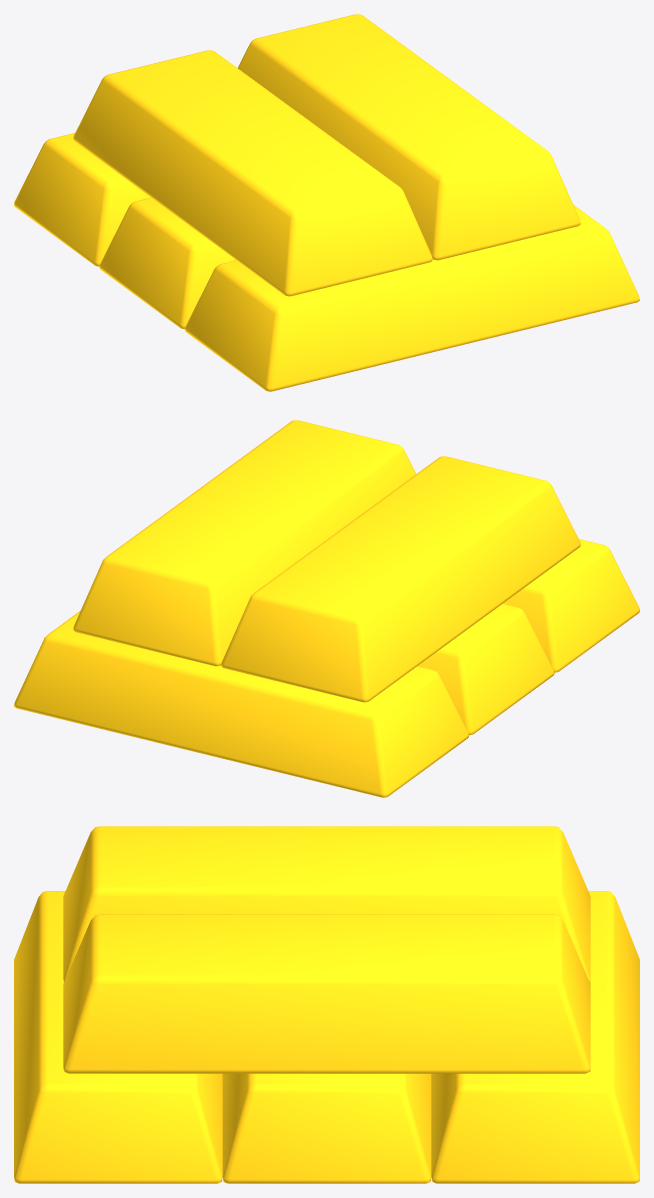
3 views of the same model, one above another, from view 1: azimuth 30°, elevation 25°; view 2: azimuth 150°, elevation 25°; view 3: azimuth 270°, elevation 25° (orthographic). The views are drawn at different scales.
Parts seen in each view (by area): view 1: StackOfGoldBars; view 2: StackOfGoldBars; view 3: StackOfGoldBars.
Boxes of the visible parts, x1=… form: StackOfGoldBars: x1=14, y1=14, x2=639, y2=391; StackOfGoldBars: x1=14, y1=420, x2=639, y2=797; StackOfGoldBars: x1=14, y1=826, x2=639, y2=1183.
Bounding box in the file's own units: 0.3718 × 0.135 × 0.4414.
1 material, 1 textured.
